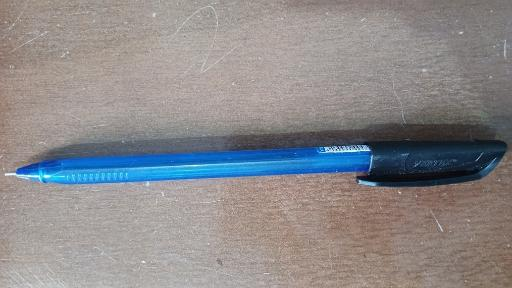pen: (4, 141, 512, 189)
